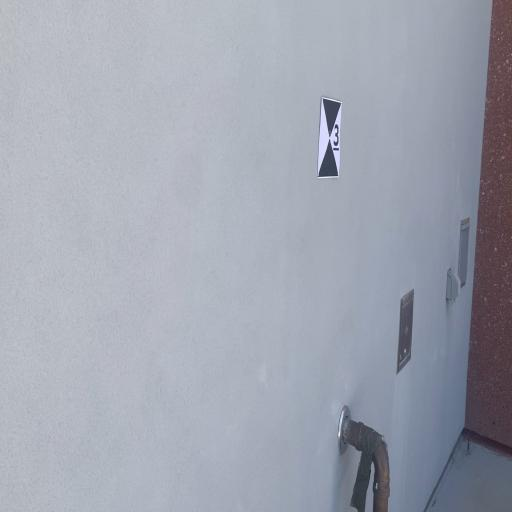target3: (317, 96, 342, 181)
